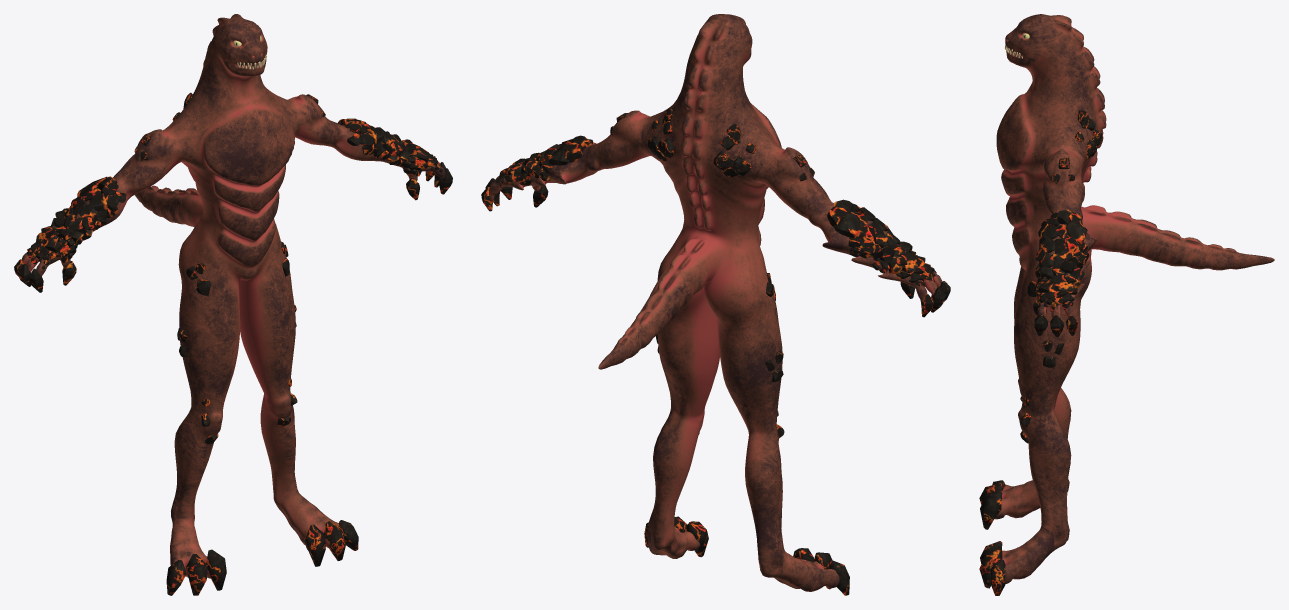
Rendered from Fire Enemy.fbx.
3 renders of one model, left to right at view 1: azimuth 30°, elevation 25°; view 2: azimuth 150°, elevation 25°; view 3: azimuth 270°, elevation 25°, orthographic. The views are drawn at different scales.
Parts seen in each view (by area): view 1: LizardManLowp.001; view 2: LizardManLowp.001; view 3: LizardManLowp.001.
Boxes of the visible parts, x1,y1,x2,y2 form: LizardManLowp.001: [14, 14, 452, 595]; LizardManLowp.001: [481, 14, 950, 595]; LizardManLowp.001: [979, 14, 1274, 595].
Size of the model in its own units: 348 by 417 by 208.
